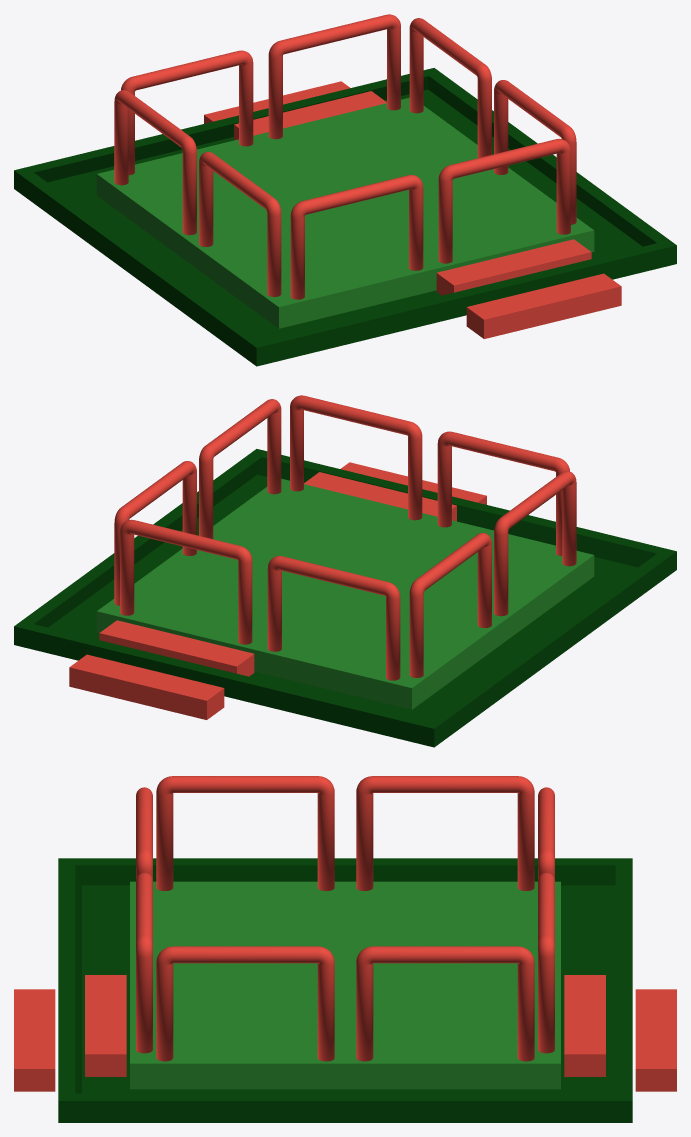
File: Simulador Sismos.fbx
3 views of the same model, one above another, from view 1: azimuth 30°, elevation 25°; view 2: azimuth 150°, elevation 25°; view 3: azimuth 270°, elevation 25° (orthographic). The views are drawn at different scales.
Visible parts, largest first — view 1: Base movil, Base solida, Barandas completas, Puertas ingreso/salida, Barandas parciales, Escalon externo, Escalon interno; view 2: Base movil, Base solida, Barandas completas, Puertas ingreso/salida, Barandas parciales, Escalon externo, Escalon interno; view 3: Base movil, Base solida, Barandas completas, Escalon externo, Escalon interno, Puertas ingreso/salida, Barandas parciales.
Part boxes in pixels (bbox=[...]): Base movil: bbox=[96, 97, 594, 328]; Base solida: bbox=[14, 68, 676, 366]; Barandas completas: bbox=[114, 18, 576, 296]; Puertas ingreso/salida: bbox=[268, 14, 570, 263]; Barandas parciales: bbox=[121, 50, 423, 299]; Escalon externo: bbox=[204, 81, 621, 338]; Escalon interno: bbox=[234, 91, 591, 295]; Base movil: bbox=[96, 478, 594, 709]; Base solida: bbox=[14, 449, 676, 747]; Barandas completas: bbox=[114, 399, 576, 677]; Puertas ingreso/salida: bbox=[120, 395, 422, 644]; Barandas parciales: bbox=[267, 431, 569, 680]; Escalon externo: bbox=[69, 462, 486, 719]; Escalon interno: bbox=[99, 472, 456, 676]; Base movil: bbox=[130, 881, 560, 1089]; Base solida: bbox=[58, 858, 632, 1122]; Barandas completas: bbox=[156, 776, 534, 1061]; Escalon externo: bbox=[14, 989, 676, 1091]; Escalon interno: bbox=[85, 975, 605, 1076]; Puertas ingreso/salida: bbox=[136, 872, 554, 1053]; Barandas parciales: bbox=[136, 787, 554, 879].
Size of the model in its own units: 625 by 541 by 157.
